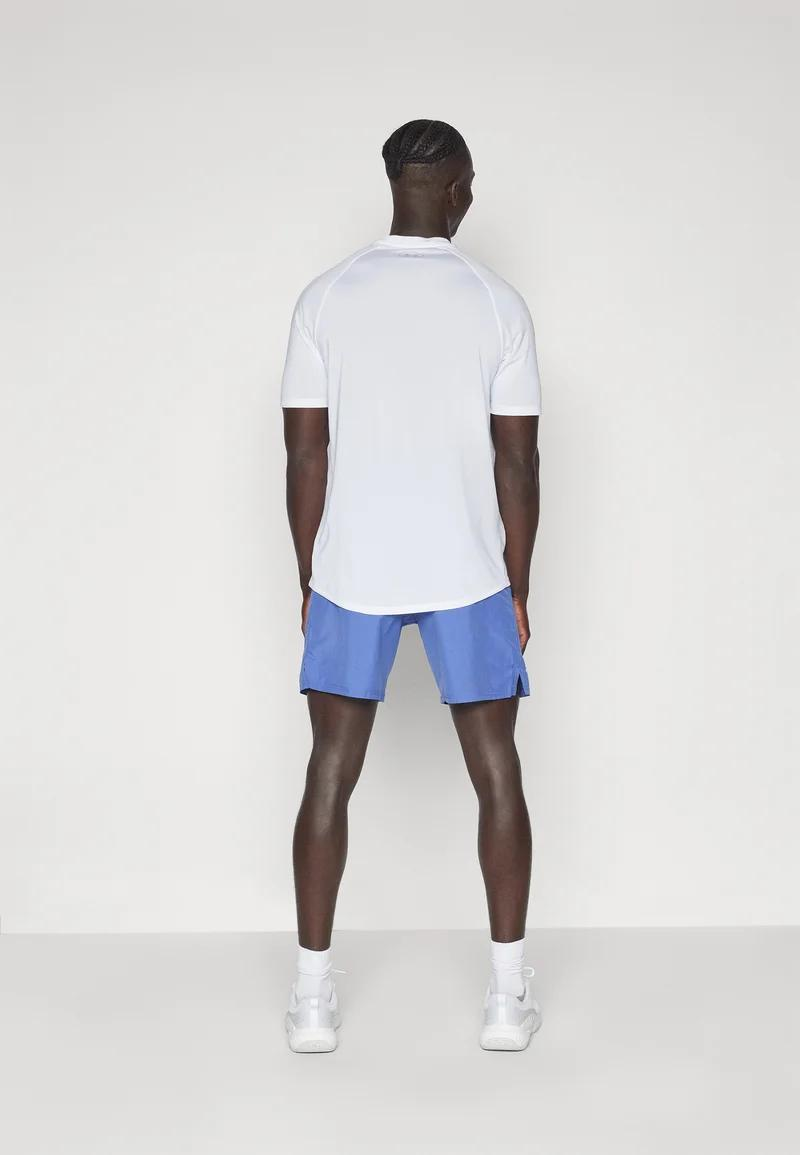Shorts: (299, 590, 536, 712)
short sleeve shirt: (277, 230, 544, 621)
